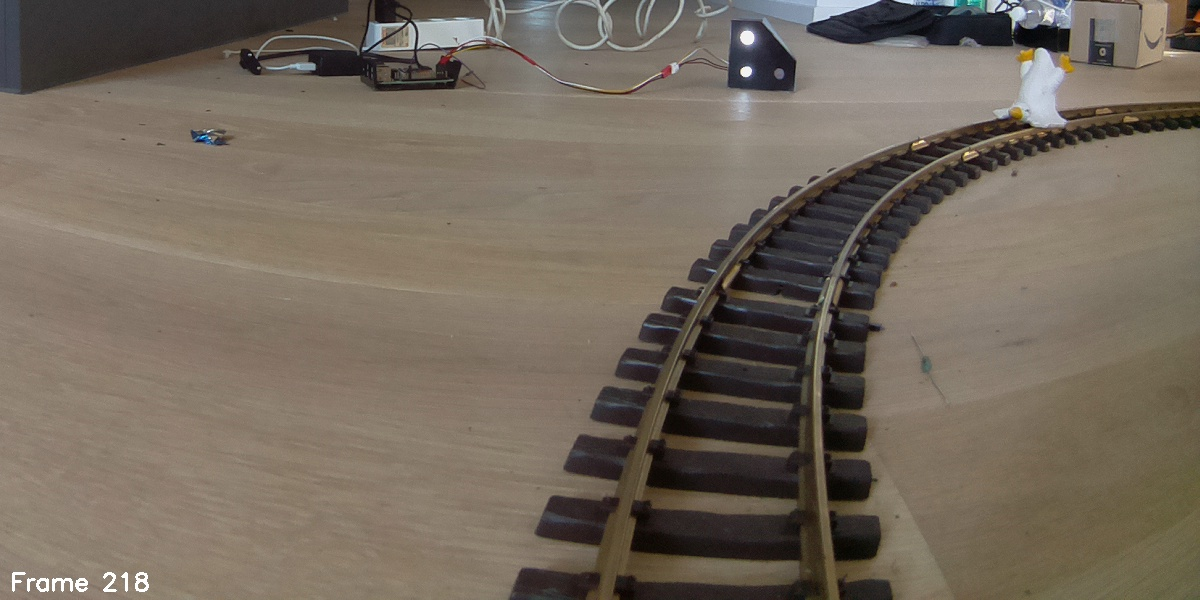Ente: (991, 49, 1070, 132)
Fahrt: (727, 16, 797, 94)
